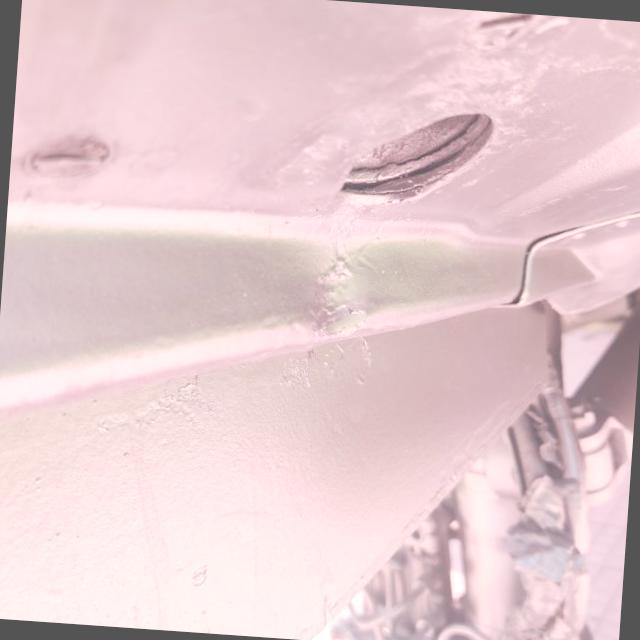dent: (302, 238, 382, 341)
